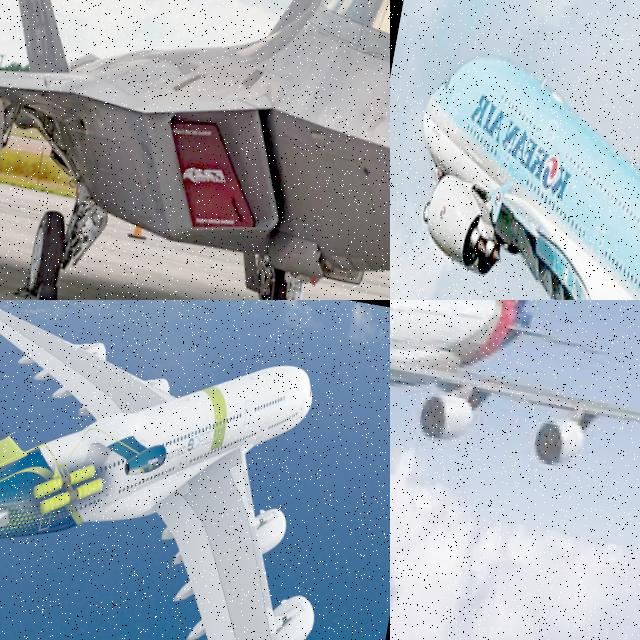A380: (0, 300, 390, 640), (390, 38, 640, 300), (390, 300, 640, 500)
F22: (0, 0, 390, 300)
